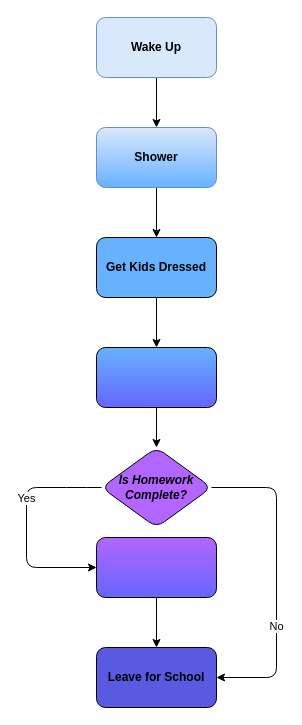
The diagram is 302 pixels wide and 725 high, and some of its shapes have lost their labels. The box of each missing label's shape, as (x1, y1, x2, y2) in pixels:
Make Breakfast: (96, 346, 216, 408)
Quick Review: (96, 536, 216, 598)
